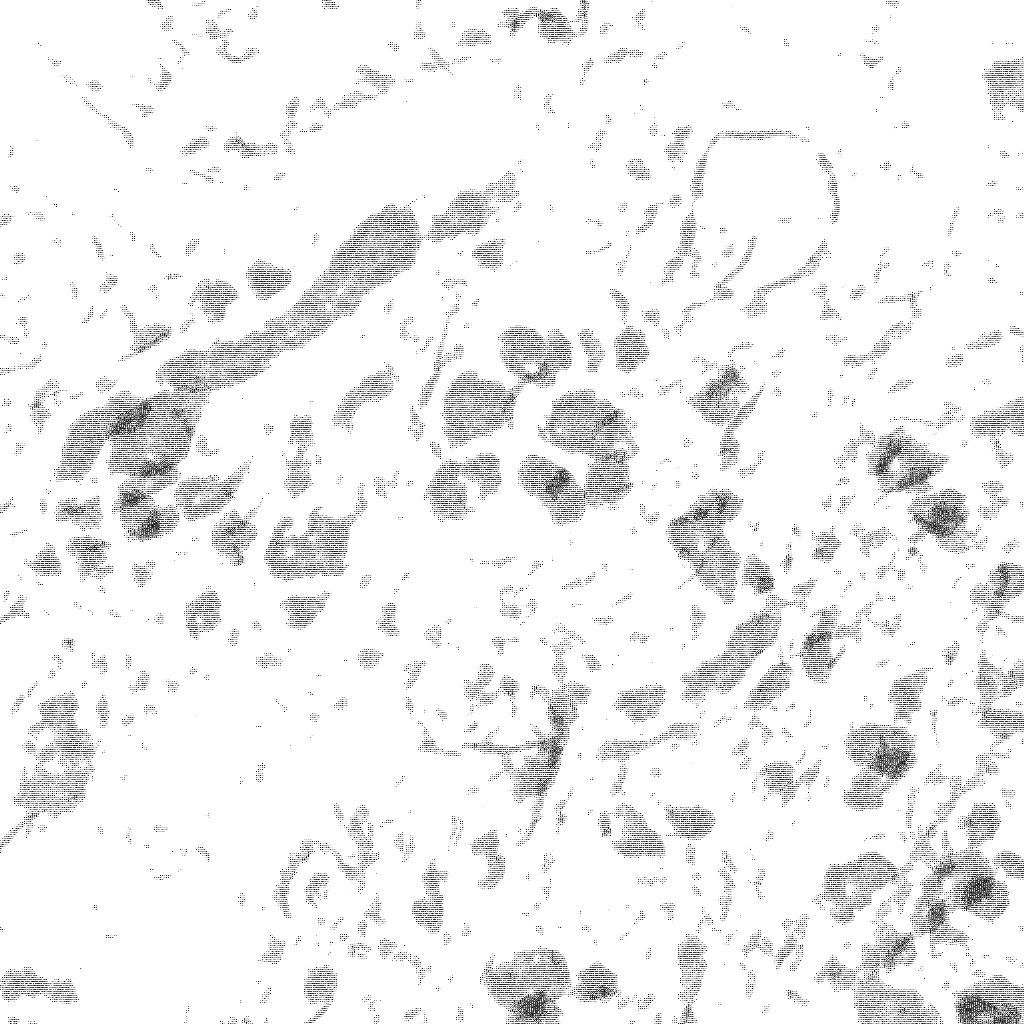axone: (10, 688, 100, 832), (660, 485, 747, 608), (105, 387, 207, 476), (472, 946, 577, 1021), (835, 721, 920, 812), (262, 506, 355, 585), (815, 850, 900, 925), (425, 454, 510, 527), (861, 424, 952, 492), (513, 448, 589, 527), (440, 370, 515, 444), (496, 319, 575, 388), (685, 361, 752, 430), (113, 476, 181, 542), (906, 485, 971, 553), (946, 971, 1024, 1024), (608, 800, 668, 867), (208, 508, 263, 569), (976, 54, 1024, 123), (240, 254, 297, 303), (662, 799, 720, 844)
